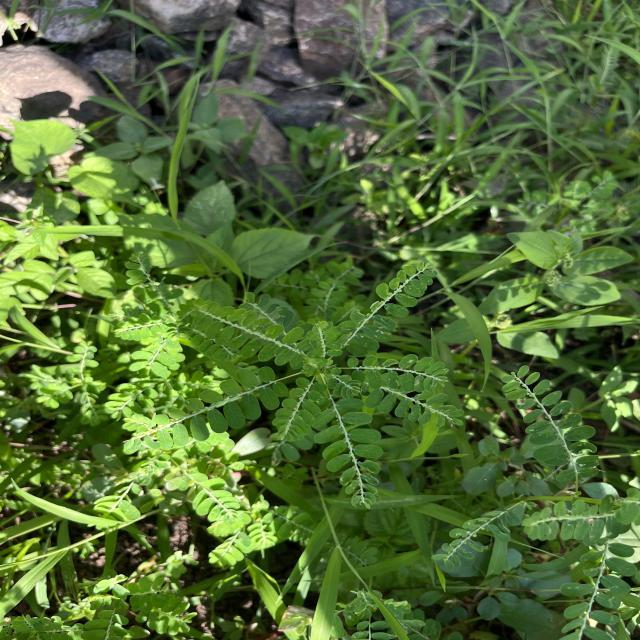Phyllanthus niruri: (126, 366, 290, 452), (500, 362, 601, 484), (332, 260, 440, 354), (189, 302, 313, 368), (315, 398, 383, 509), (520, 499, 634, 542), (344, 354, 454, 394), (271, 376, 330, 443)
